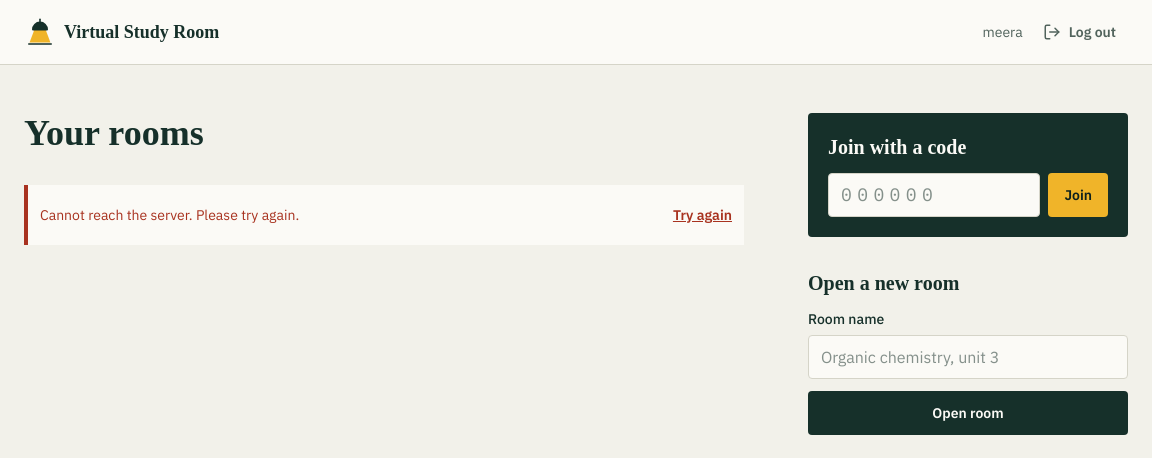
it: offers to try again when loading fails
The image size is (1152, 458).
Expected: the message shows "Cannot reach the server", [40,206,299,224]
Click the button "Try again" at {"x": 702, "y": 215}, box [673,193,732,237]
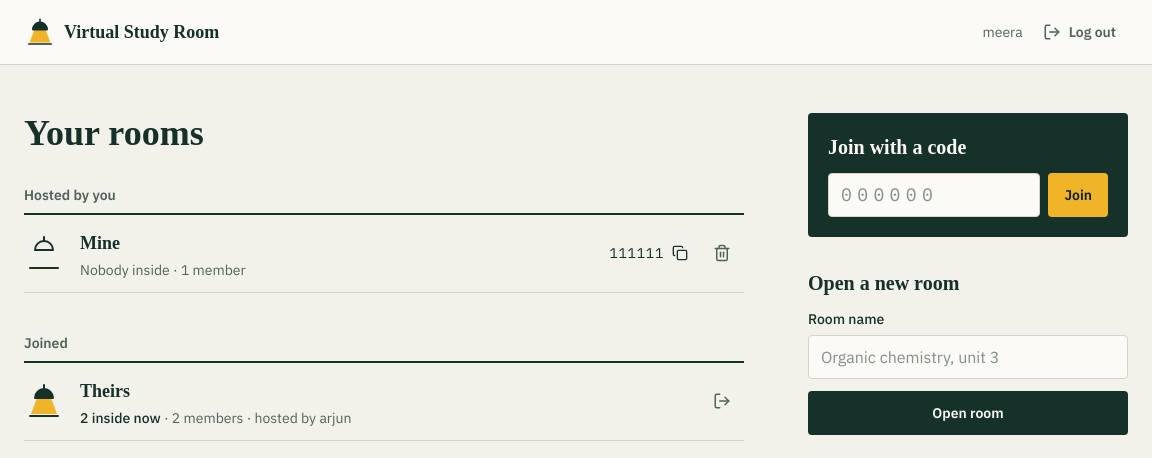
Result: the link "Mine" is shown at [80,233,120,253]
